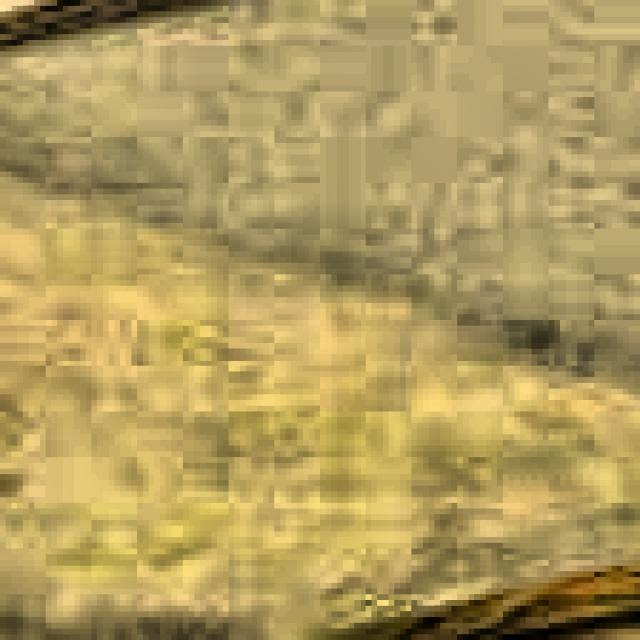paper: (0, 168, 640, 640)
